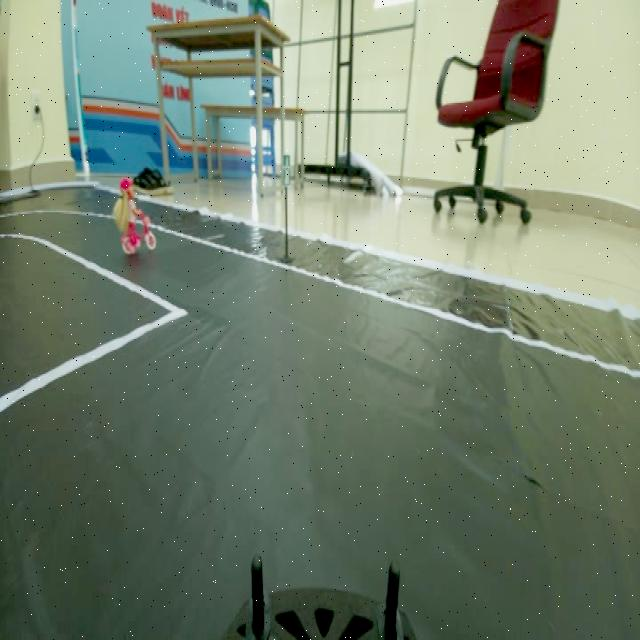pedestrian: (98, 169, 170, 263)
